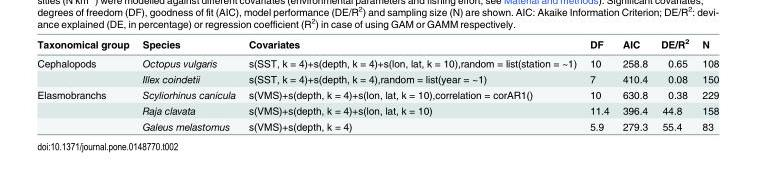table: (36, 36, 718, 132)
table column: (241, 36, 582, 132), (135, 36, 241, 132), (36, 36, 135, 132), (653, 36, 694, 132), (615, 36, 653, 132), (582, 36, 615, 132), (694, 36, 718, 132)
table column header: (36, 36, 718, 53)
table row: (36, 36, 718, 53), (36, 53, 718, 70), (36, 70, 718, 86), (36, 86, 718, 102), (36, 102, 718, 118), (36, 118, 718, 132)
table spanning cell: (36, 86, 135, 132), (36, 53, 135, 86)
